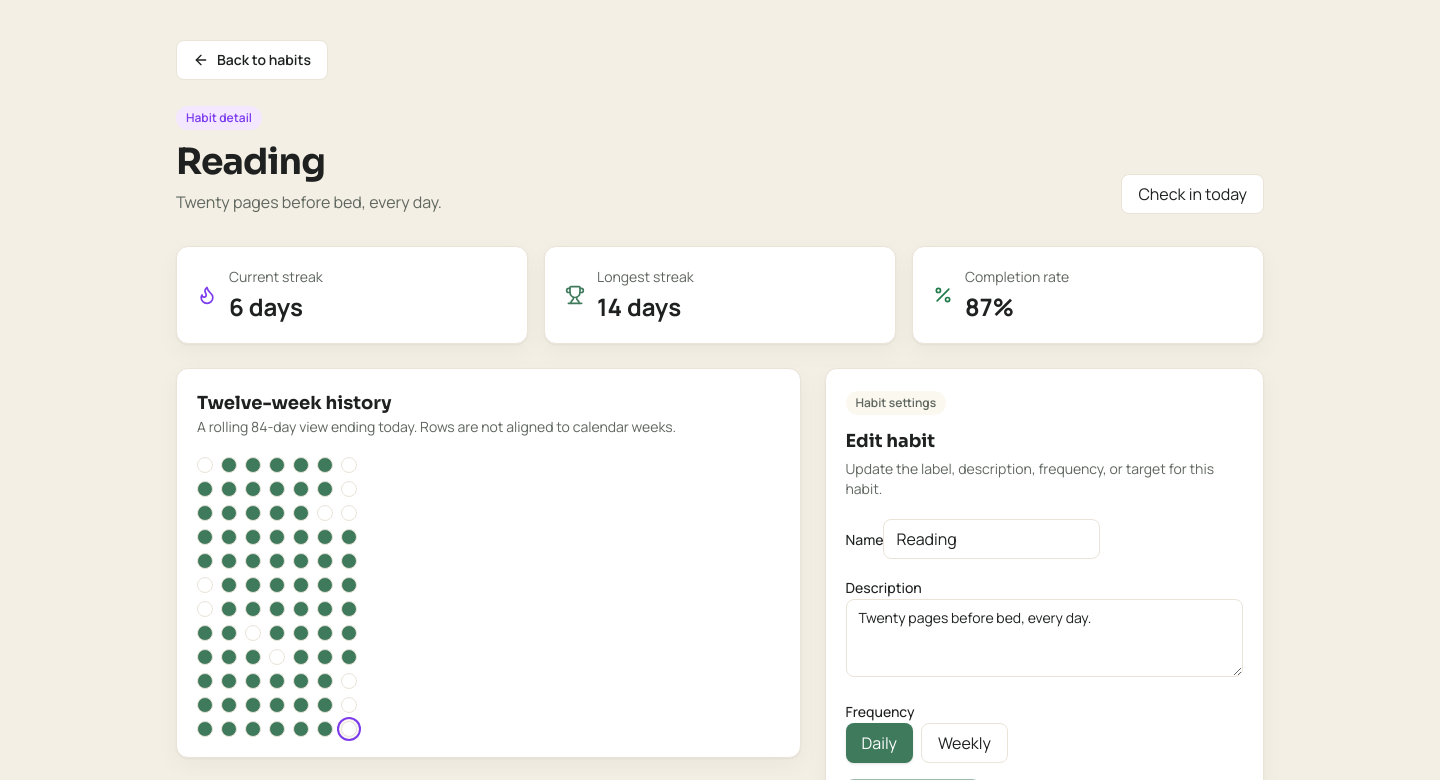
HabitDetailPage — editing › writes the edited name to the store and to the page title
Type " nightly" into the field labelled "Name" at [992, 539], box [883,519,1100,559]
(page scrolled)
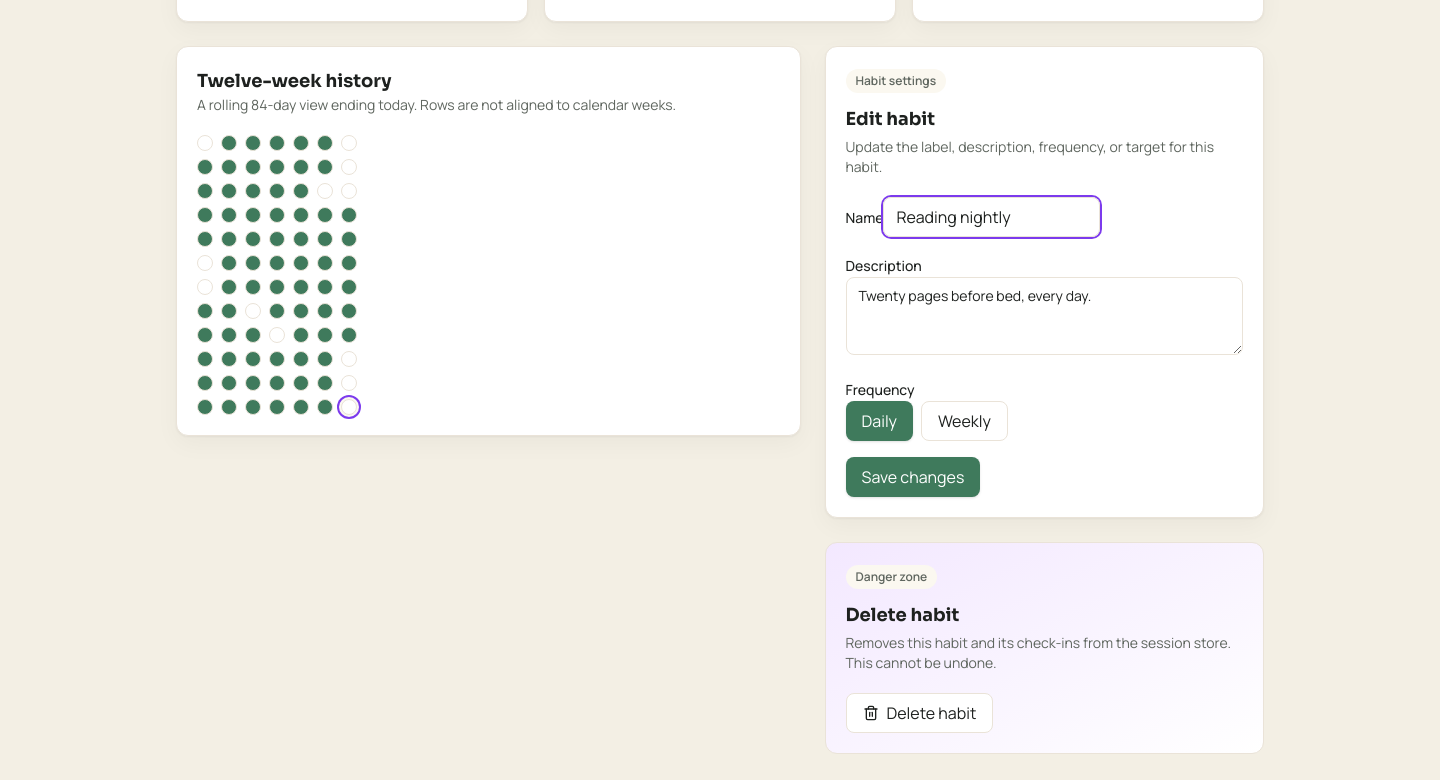
Click the button "Save changes" at [913, 477], box [846,457,980,497]
(page scrolled)
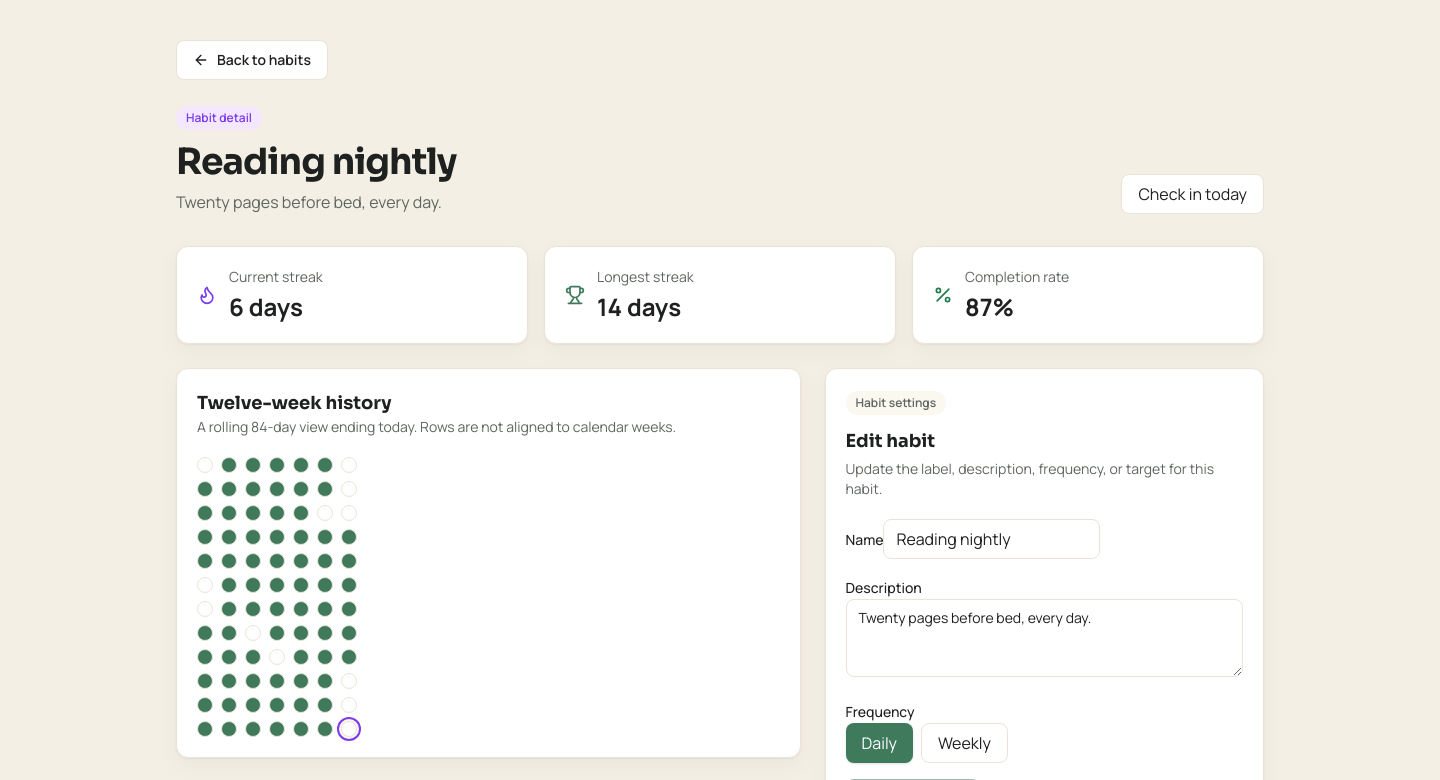
Expected: the heading "Reading nightly" is shown, [176,142,456,182]
